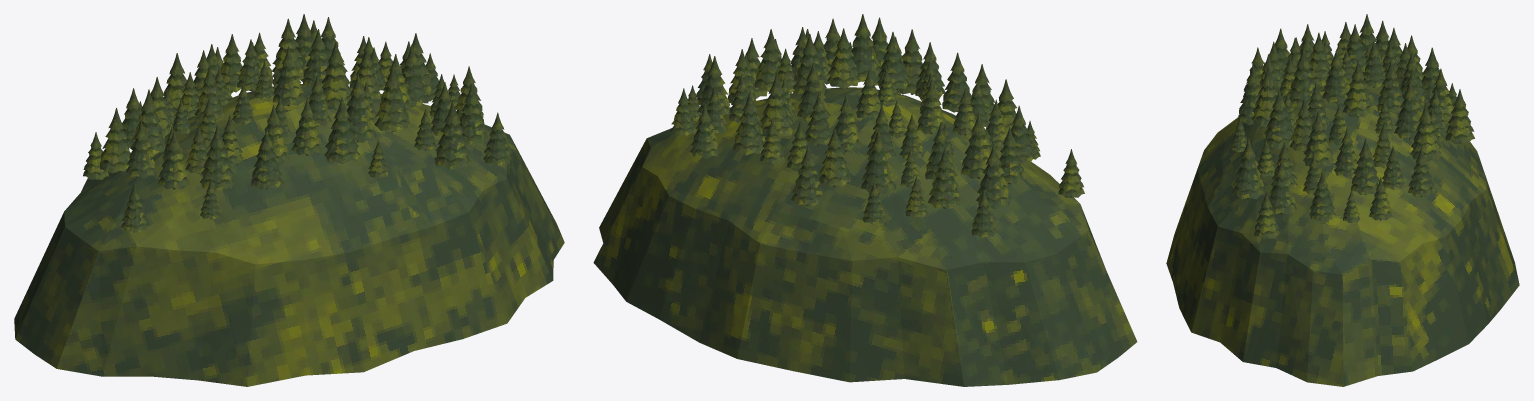
File: forested_hills-DR7_LQ12.glb
3 renders of one model, left to right at view 1: azimuth 30°, elevation 25°; view 2: azimuth 150°, elevation 25°; view 3: azimuth 270°, elevation 25°, orthographic. The views are drawn at different scales.
Parts seen in each view (by area): view 1: Hill 01 - editable tree scatter; view 2: Hill 01 - editable tree scatter; view 3: Hill 01 - editable tree scatter.
Part boxes in pixels (x1,y1,x2,y2): Hill 01 - editable tree scatter: (14, 14, 564, 386); Hill 01 - editable tree scatter: (593, 14, 1137, 386); Hill 01 - editable tree scatter: (1166, 14, 1519, 386).
Bounding box in the file's own units: 20.02 × 9.65 × 13.03.
Materials: 1 (1 with a texture image).
